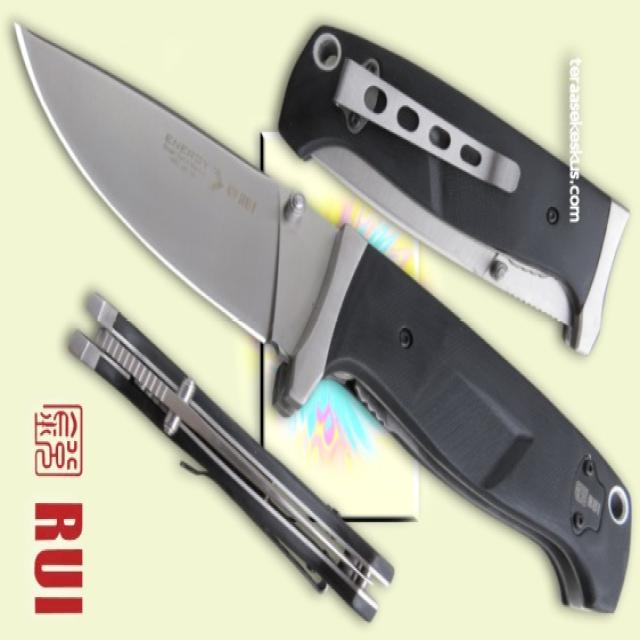knife: (12, 15, 635, 624)
